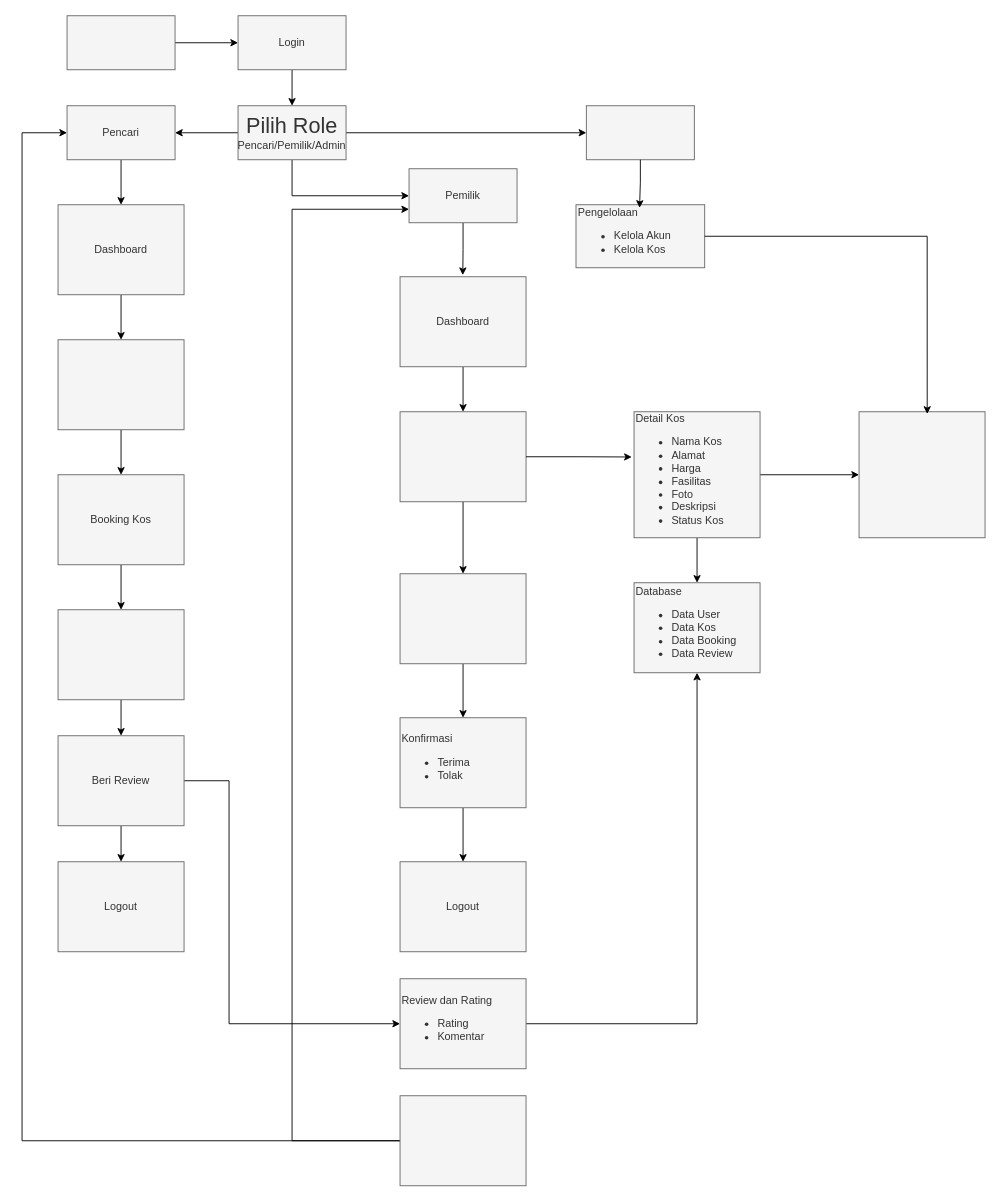
Some shapes in this 1001 by 1202 pixel diagram are drawn without their labels. Each missing label, with the centre of its shape:
"Admin" goes at pixel 639 132.
"Beranda" goes at pixel 120 42.
"Booking Kos Lihat List Detail Booking" goes at pixel 462 618.
"CRUD Input Edit Hapus Update" goes at pixel 921 474.
"Fitur Pencari Cari Kos Filter Kos Lihat Detail Booking" goes at pixel 120 384.
"Manajemen Kos Tambah Kos Edit Kos Hapus Kos Lihat Kos" goes at pixel 462 456.
"Notifikasi Booking Baru Booking Terkonfirmasi Booking Ditolak" goes at pixel 462 1140.
"Status Booking Pending Terkonfirmasi" goes at pixel 120 654.
